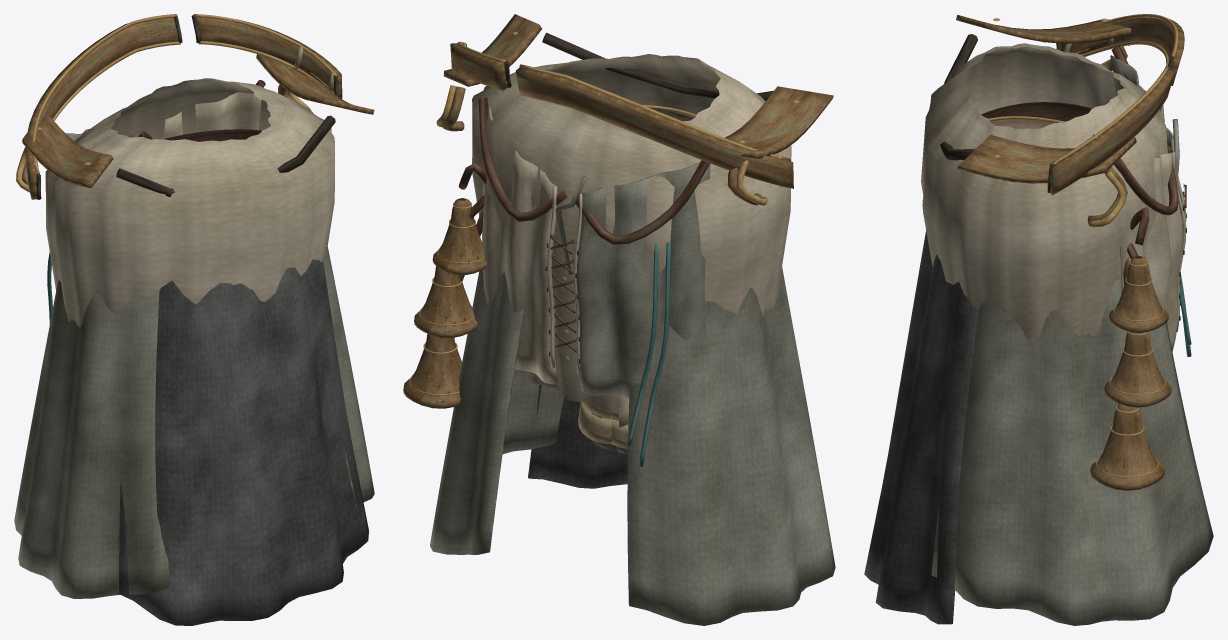
Rendered from Glockentraegerin.fbx.
3 views of the same model, side by side, from view 1: azimuth 30°, elevation 25°; view 2: azimuth 150°, elevation 25°; view 3: azimuth 270°, elevation 25° (orthographic). The views are drawn at different scales.
Parts seen in each view (by area): view 1: Glocke_Schurzgurt, Glocke_Glockenjoch; view 2: Glocke_Glockenjoch, Glocke_Schurzgurt, Glocke_Manschette_R; view 3: Glocke_Schurzgurt, Glocke_Glockenjoch, Glocke_Stirnreif.
Part boxes in pixels (box(x1,y1,x2,y2)): Glocke_Schurzgurt: box(14, 129, 374, 625); Glocke_Glockenjoch: box(16, 14, 374, 326); Glocke_Glockenjoch: box(436, 14, 833, 413); Glocke_Schurzgurt: box(403, 111, 835, 625); Glocke_Manschette_R: box(578, 402, 618, 444); Glocke_Schurzgurt: box(864, 102, 1213, 625); Glocke_Glockenjoch: box(921, 14, 1186, 351); Glocke_Stirnreif: box(988, 116, 1064, 128).
Size of the model in its own units: 0.4425 by 0.648 by 0.3735.
Materials: 1 (1 with a texture image).
